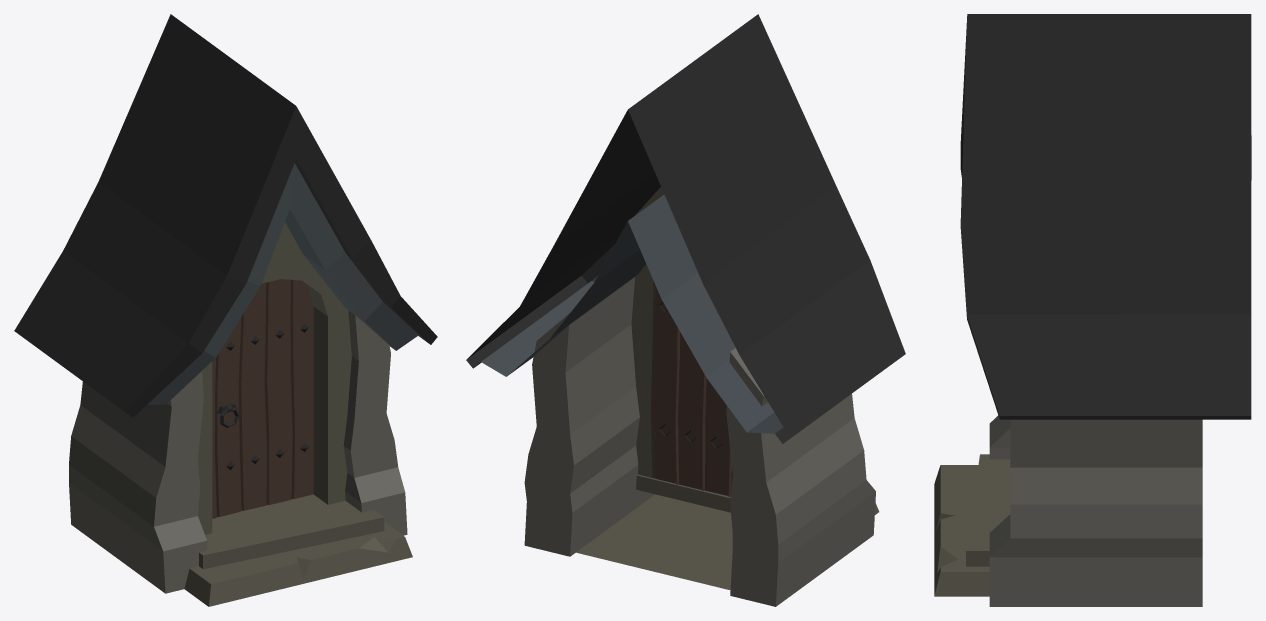
The model's file is LPHorror_Door.fbx.
3 views of the same model, side by side, from view 1: azimuth 30°, elevation 25°; view 2: azimuth 150°, elevation 25°; view 3: azimuth 270°, elevation 25° (orthographic). The views are drawn at different scales.
Parts seen in each view (by area): view 1: Door; view 2: Door; view 3: Door.
Part boxes in pixels (left/top/right/bottom): Door: left=14, top=14, right=437, bottom=606; Door: left=466, top=14, right=905, bottom=606; Door: left=934, top=14, right=1251, bottom=606.
Bounding box in the file's own units: 285 × 406 × 222.
